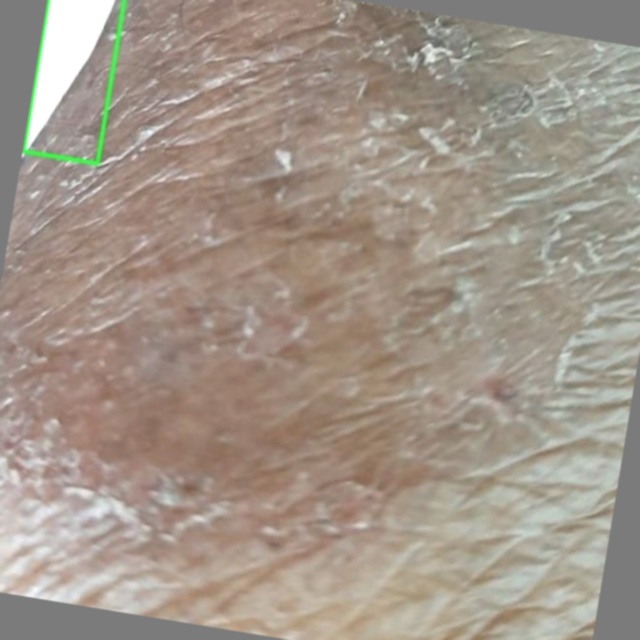Tinea Corporis: (23, 0, 124, 163)
